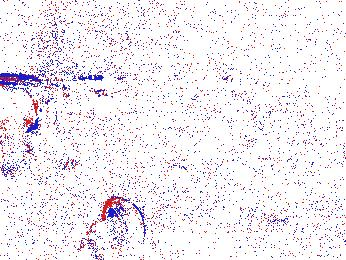flame jellyfish: (78, 195, 146, 258), (216, 206, 288, 260), (1, 83, 41, 179)
